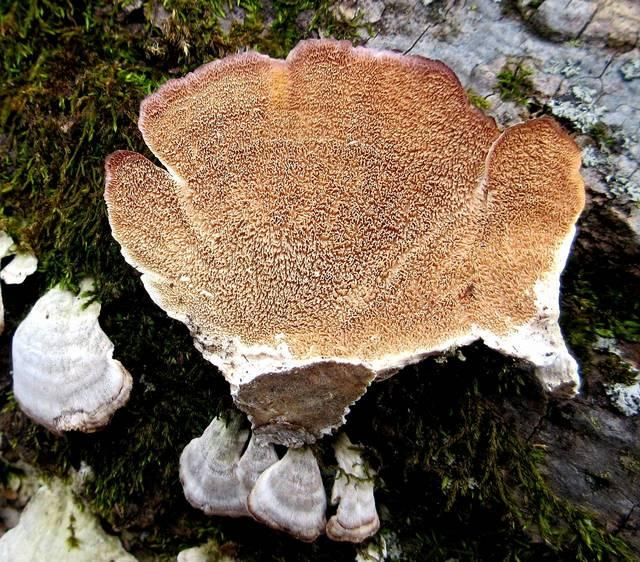Non-edible Mushroom: (101, 36, 587, 544), (9, 275, 133, 435)
